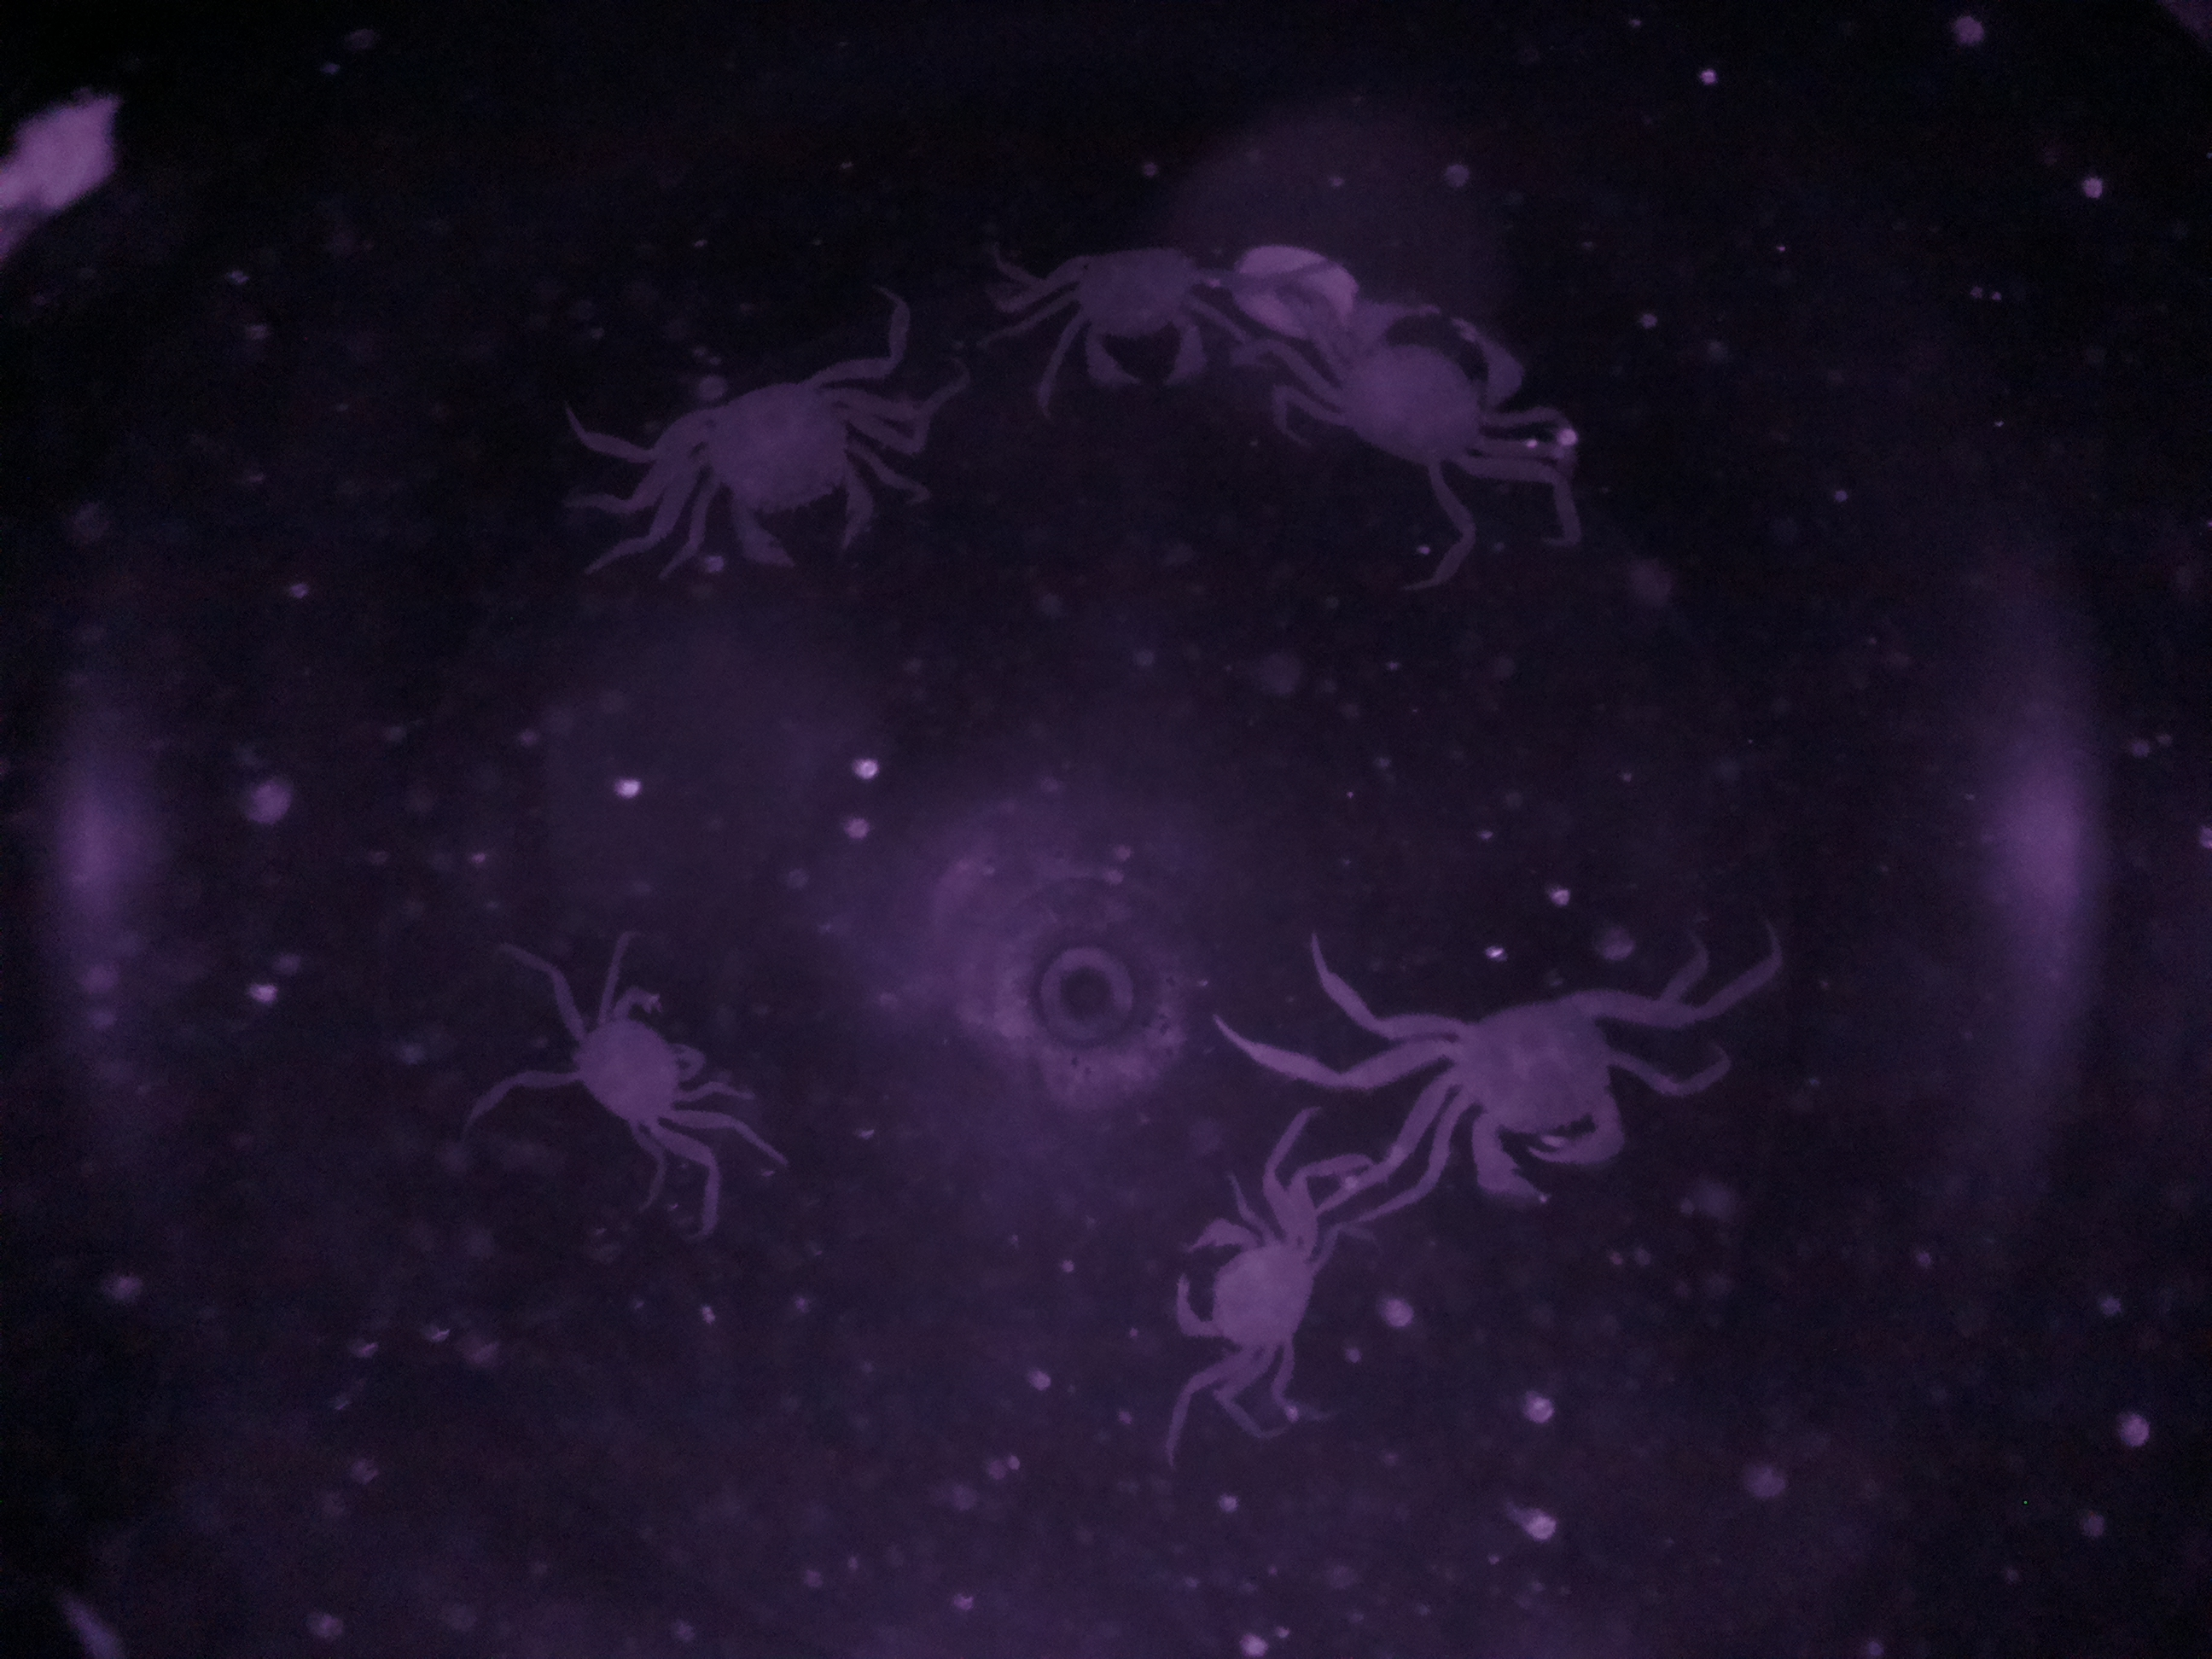Crab: (1390, 957, 1642, 1222), (639, 354, 897, 582), (1310, 284, 1554, 509), (1148, 1169, 1339, 1399), (535, 971, 726, 1175), (1033, 216, 1233, 401)
